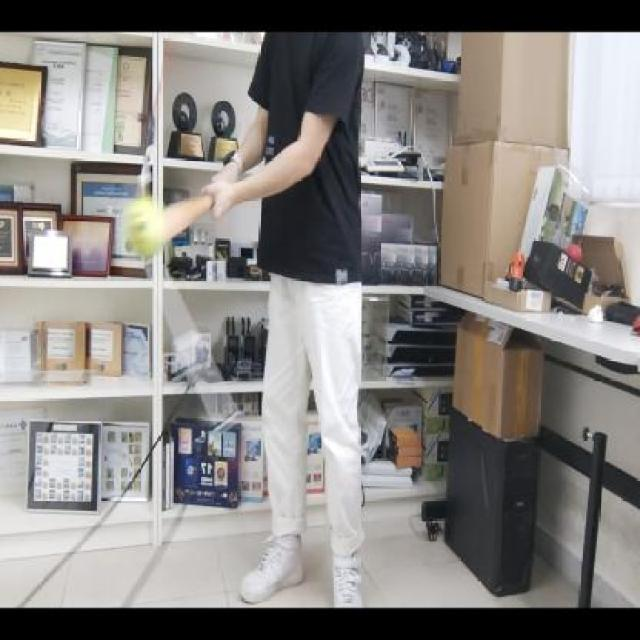baseball: (123, 197, 165, 260)
